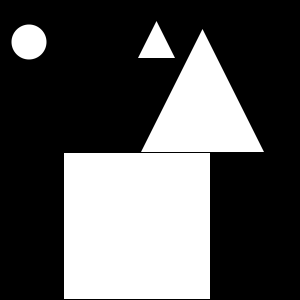circle: (64, 153, 210, 299)
rectangle: (12, 25, 46, 60)
triangle: (141, 29, 264, 152), (138, 21, 175, 58)
